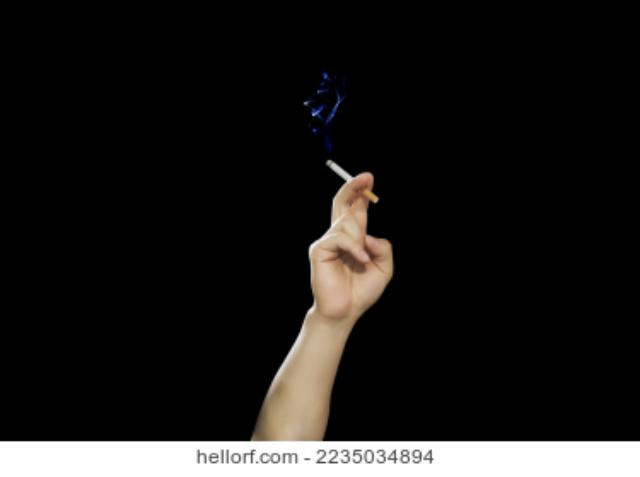Cigarette: (312, 150, 398, 208)
